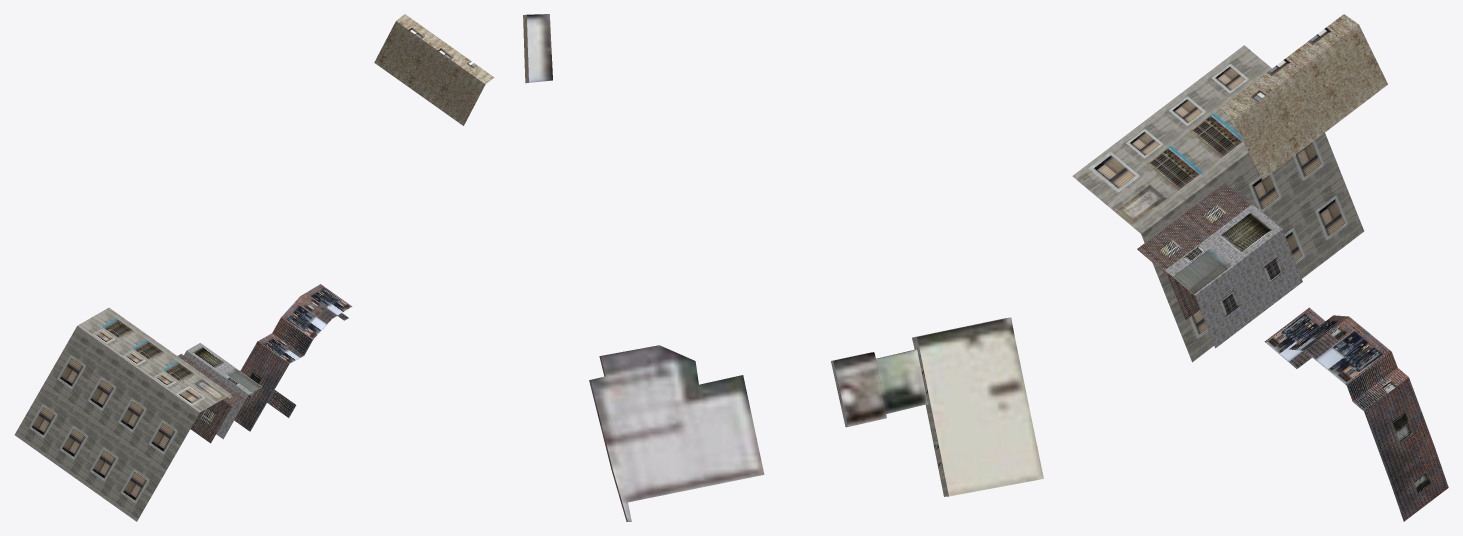
3 renders of one model, left to right at view 1: azimuth 30°, elevation 25°; view 2: azimuth 150°, elevation 25°; view 3: azimuth 270°, elevation 25°, orthographic. The views are drawn at different scales.
Size of the model in its own units: 44.57 by 36.25 by 21.78.
19 materials, 19 textured.
